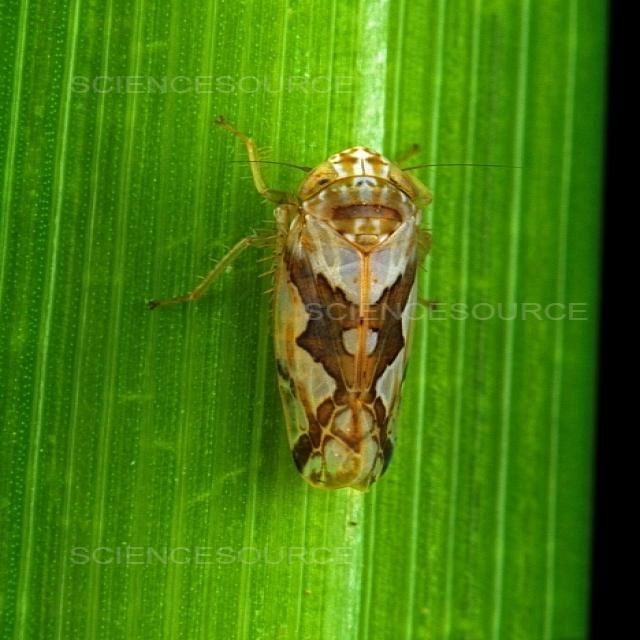Yechan: (198, 115, 444, 499)
